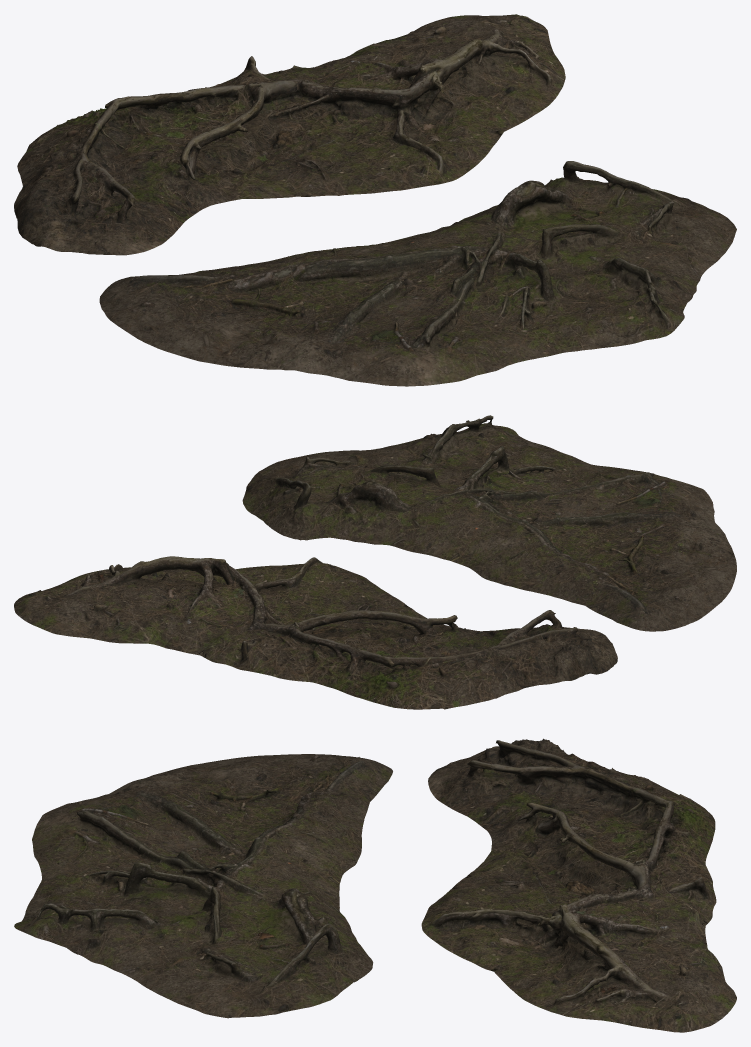
Rendered from pine_roots_lod.glb.
3 views of the same model, one above another, from view 1: azimuth 30°, elevation 25°; view 2: azimuth 150°, elevation 25°; view 3: azimuth 270°, elevation 25° (orthographic). The views are drawn at different scales.
Parts seen in each view (by area): view 1: pine_roots_b, pine_roots_a; view 2: pine_roots_b, pine_roots_a; view 3: pine_roots_b, pine_roots_a.
Boxes of the visible parts, x1=… form: pine_roots_b: x1=99, y1=161, x2=736, y2=386; pine_roots_a: x1=14, y1=14, x2=565, y2=255; pine_roots_b: x1=242, y1=415, x2=736, y2=631; pine_roots_a: x1=14, y1=556, x2=617, y2=709; pine_roots_b: x1=14, y1=754, x2=392, y2=1018; pine_roots_a: x1=421, y1=738, x2=736, y2=1032.
Size of the model in its own units: 1.77 by 0.1548 by 1.89.
2 materials, 2 textured.
